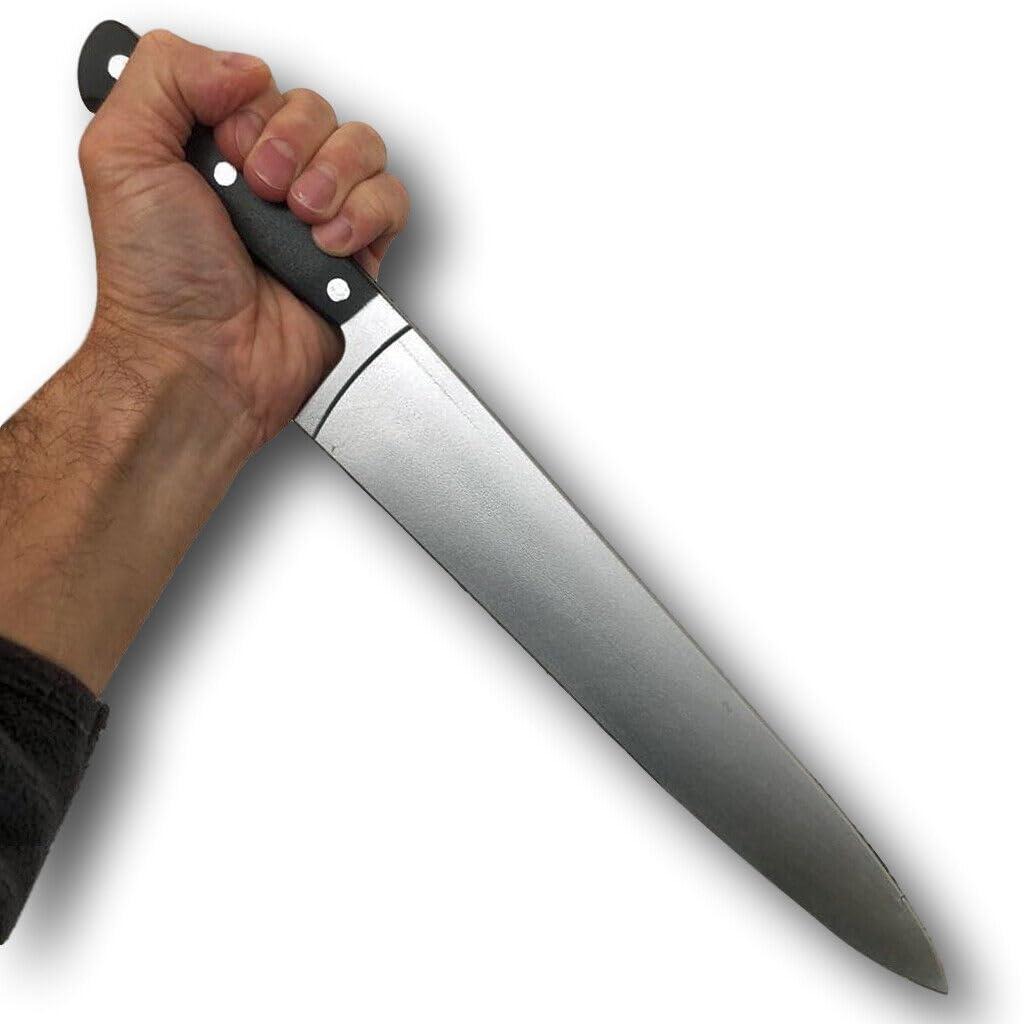Knife: (71, 16, 961, 999), (0, 23, 416, 967), (64, 23, 406, 433)
